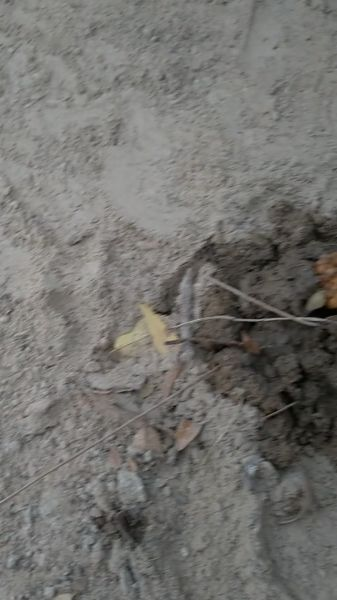eggs: (313, 249, 337, 310)
